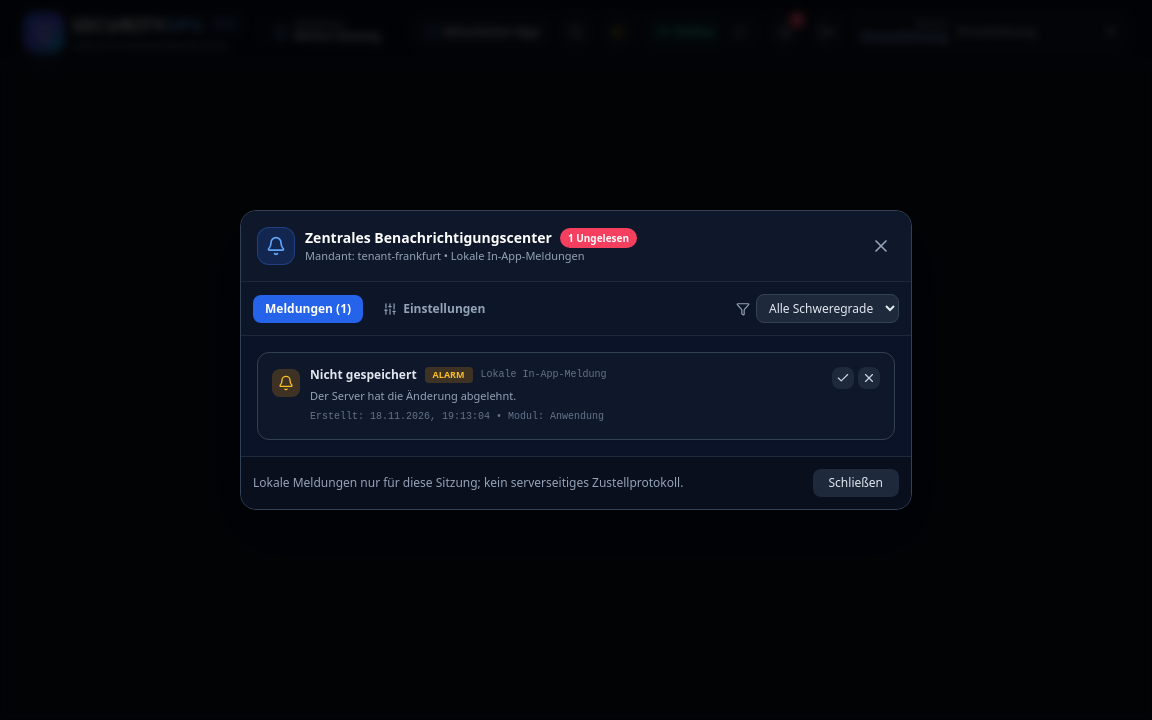
Test case: Runtime notification center › shows a real runtime error in the feed and bell, then reads and dismisses that message
expect the button named "Benachrichtigungscenter öffnen. Ungelesen: 1" is shown: met, box [768,14,802,48]
Click the button named "Als gelesen markieren: Nicht gespeichert".
click(843, 378)  # box [832,367,854,389]
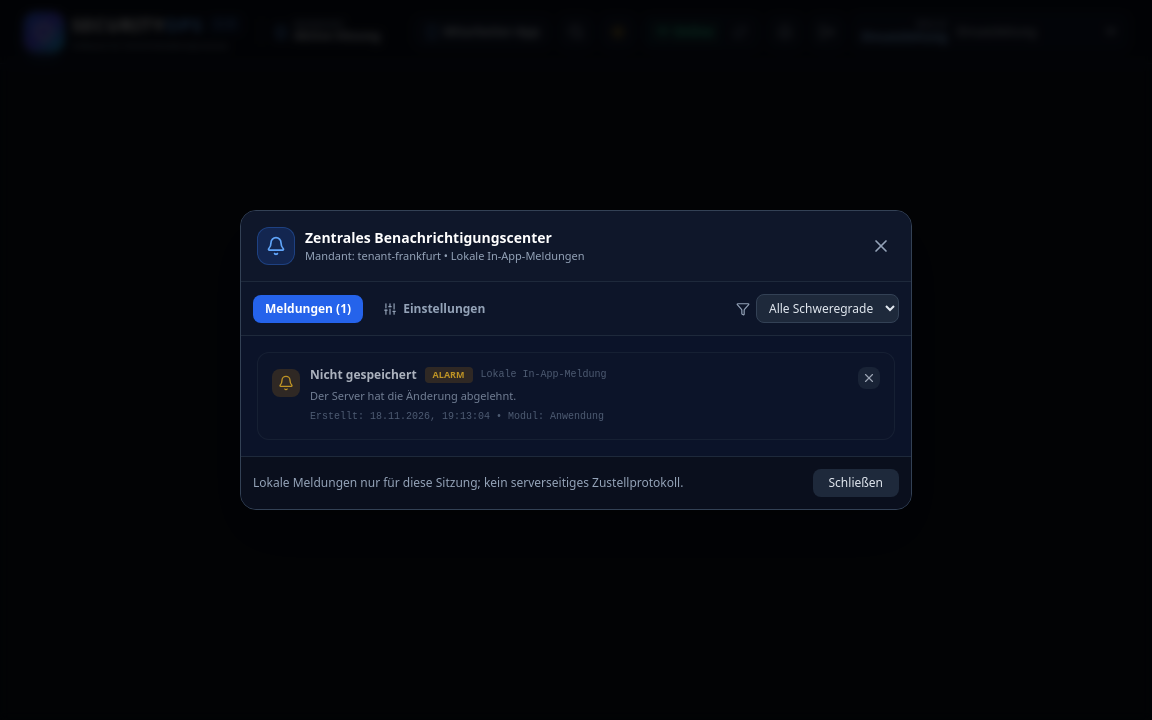
expect the text "Der Server hat die Änderung abgelehnt." is shown: met, box [310,388,516,403]
Click the button named "Meldung verwerfen: Nicht gespeichert".
click(869, 378)  # box [858,367,880,389]
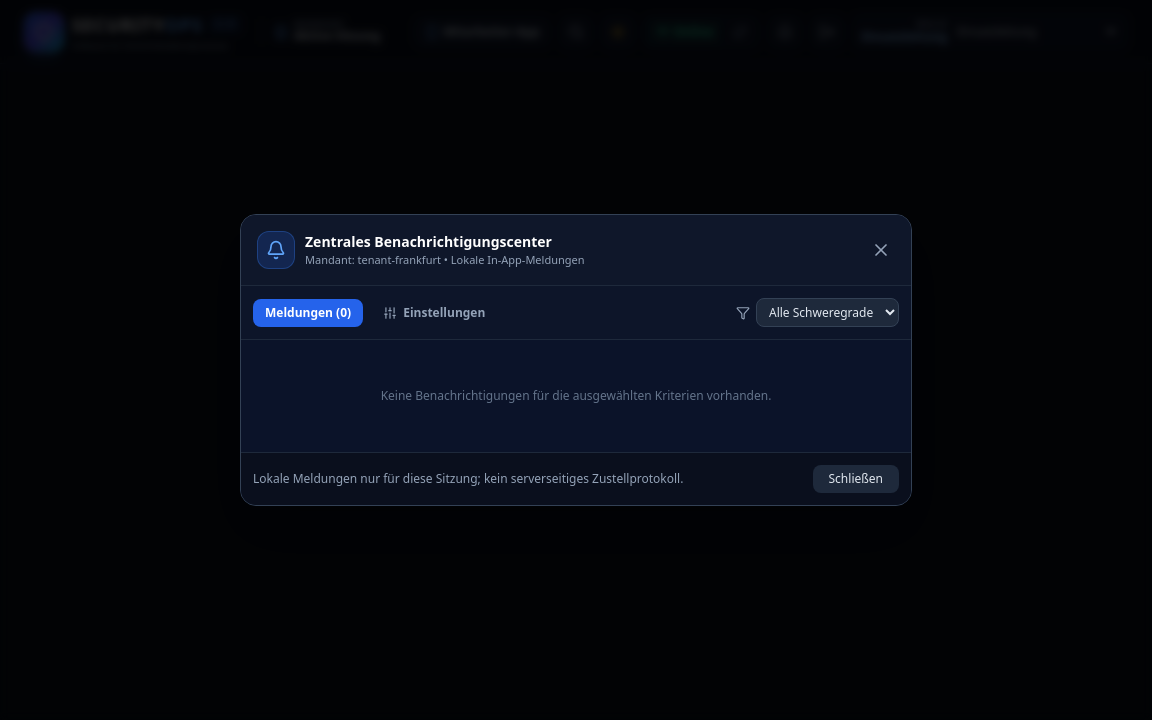
expect the text "Der Server hat die Änderung abgelehnt." is gone: met
